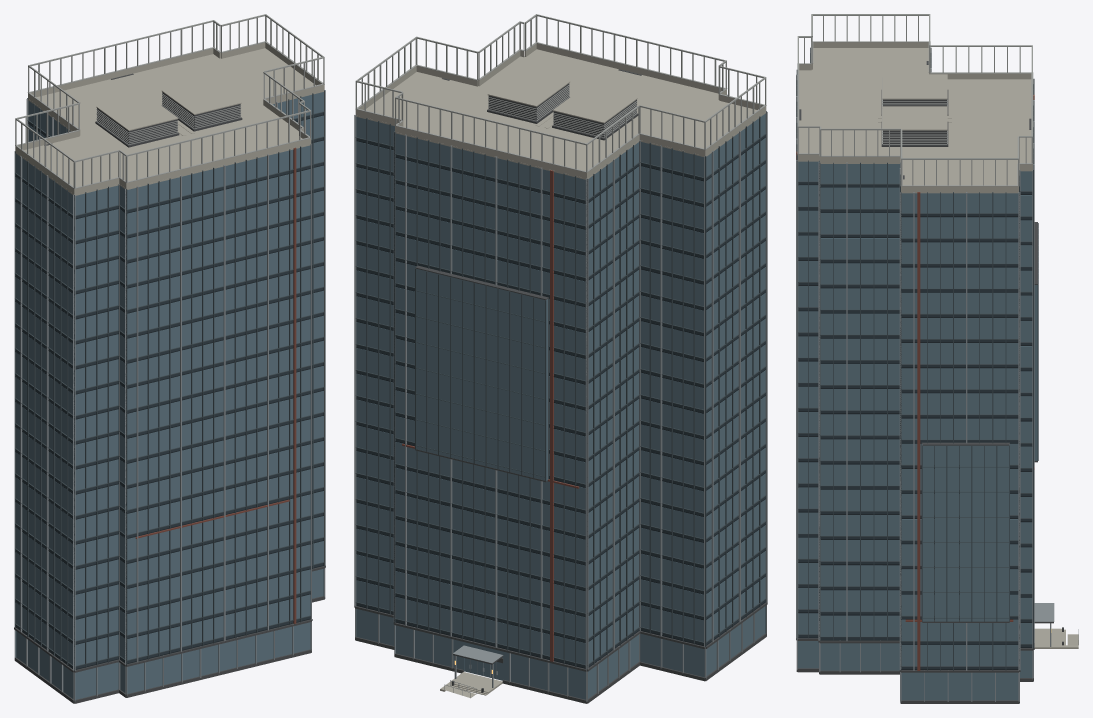
The model's file is building-t1-lod1.glb.
3 renders of one model, left to right at view 1: azimuth 30°, elevation 25°; view 2: azimuth 150°, elevation 25°; view 3: azimuth 270°, elevation 25°, orthographic. The views are drawn at different scales.
Visible parts, largest first — view 1: building-t1_MATERIAL_BATCH; view 2: building-t1_MATERIAL_BATCH; view 3: building-t1_MATERIAL_BATCH.
Boxes of the visible parts, <box> form: building-t1_MATERIAL_BATCH: <box>14,14,325,703</box>; building-t1_MATERIAL_BATCH: <box>354,14,767,703</box>; building-t1_MATERIAL_BATCH: <box>796,14,1078,703</box>.
Size of the model in its own units: 56.51 by 97.5 by 45.84.
